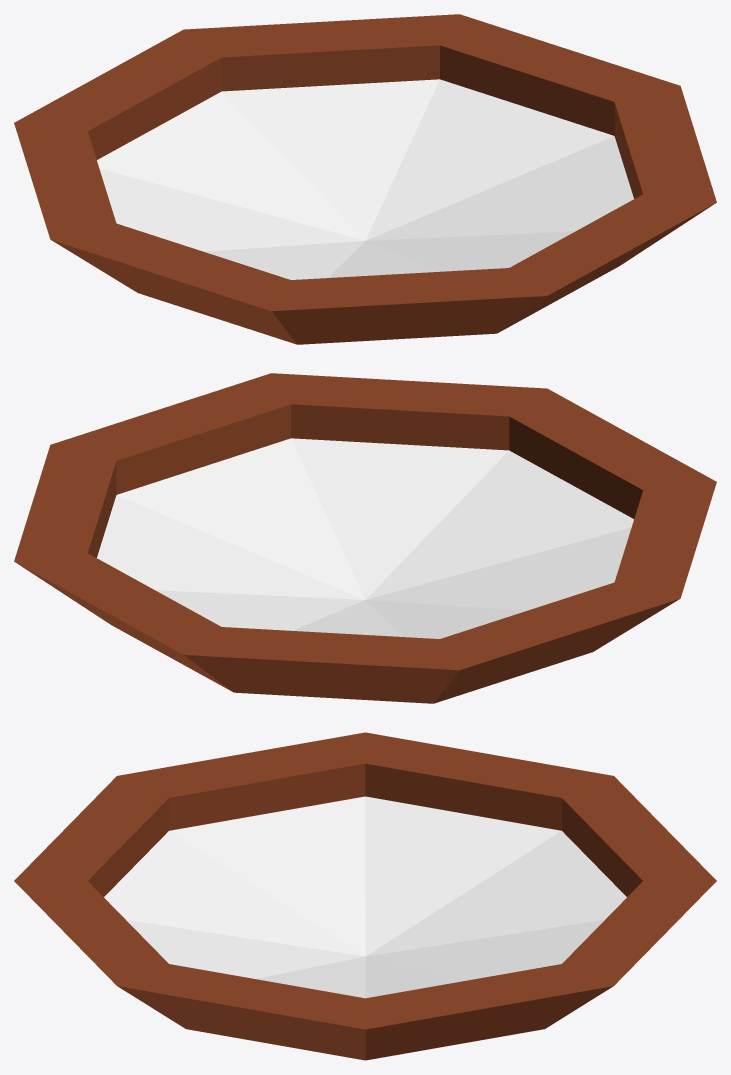
File: StatueDisk.fbx
3 renders of one model, top to bottom at view 1: azimuth 30°, elevation 25°; view 2: azimuth 150°, elevation 25°; view 3: azimuth 270°, elevation 25°, orthographic. The views are drawn at different scales.
Visible parts, largest first — view 1: Cylinder.016; view 2: Cylinder.016; view 3: Cylinder.016.
Part boxes in pixels (bbox=[...]): Cylinder.016: bbox=[14, 14, 716, 344]; Cylinder.016: bbox=[14, 373, 716, 703]; Cylinder.016: bbox=[14, 732, 716, 1060].
Size of the model in its own units: 114 by 114 by 22.41.
